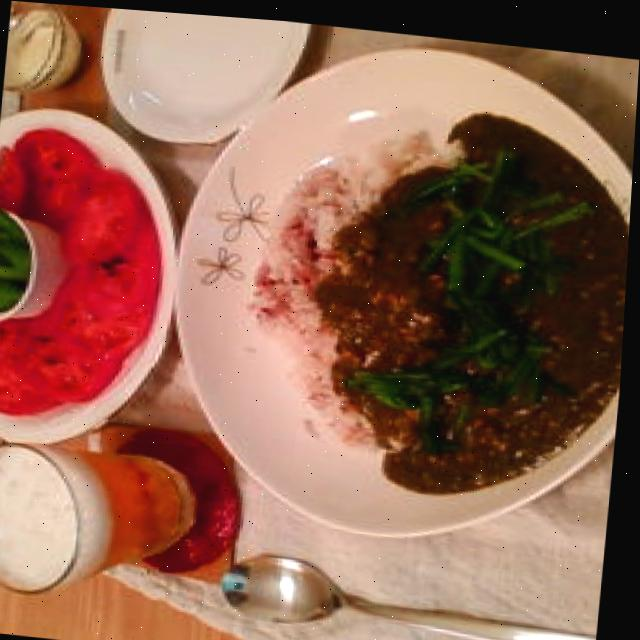牛肉菜式: (167, 64, 638, 517)
